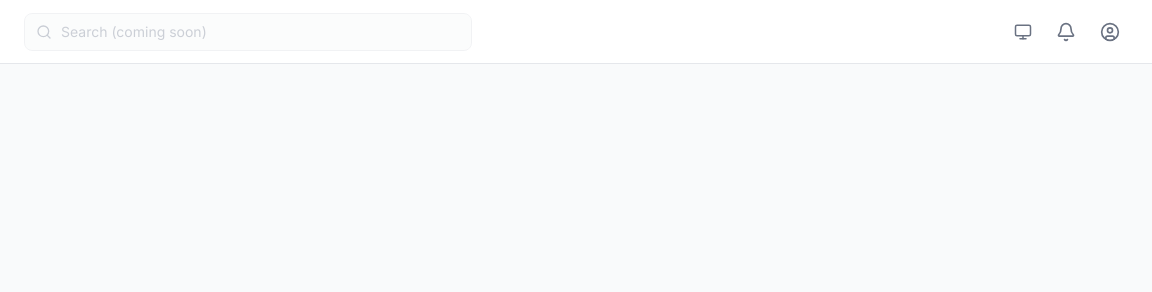
Test case: Admin Header user menu › opens dropdown on click and shows user name and email
Click the button with test id "user-menu-button": point(1110, 32) [1092,14,1128,50]
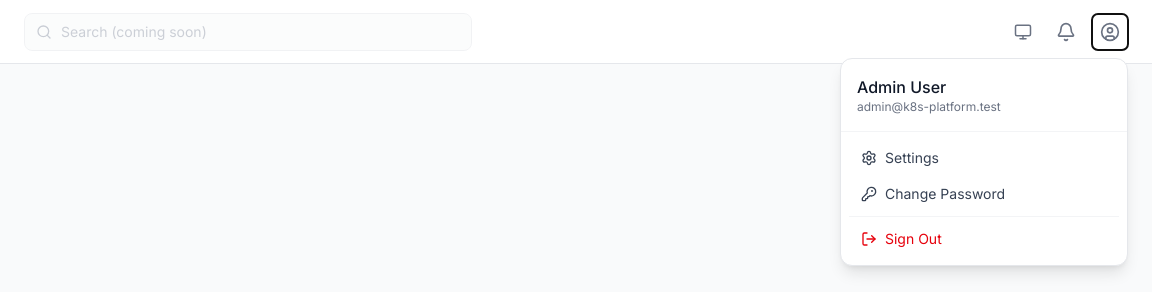
Check: the element with test id "user-menu-dropdown" is shown, box [840,58,1128,266]
Check: the text with test id "user-menu-name" reads "Admin User", box [857,76,946,96]
Check: the text with test id "user-menu-email" reads "admin@k8s-platform.test", box [857,98,1001,114]
